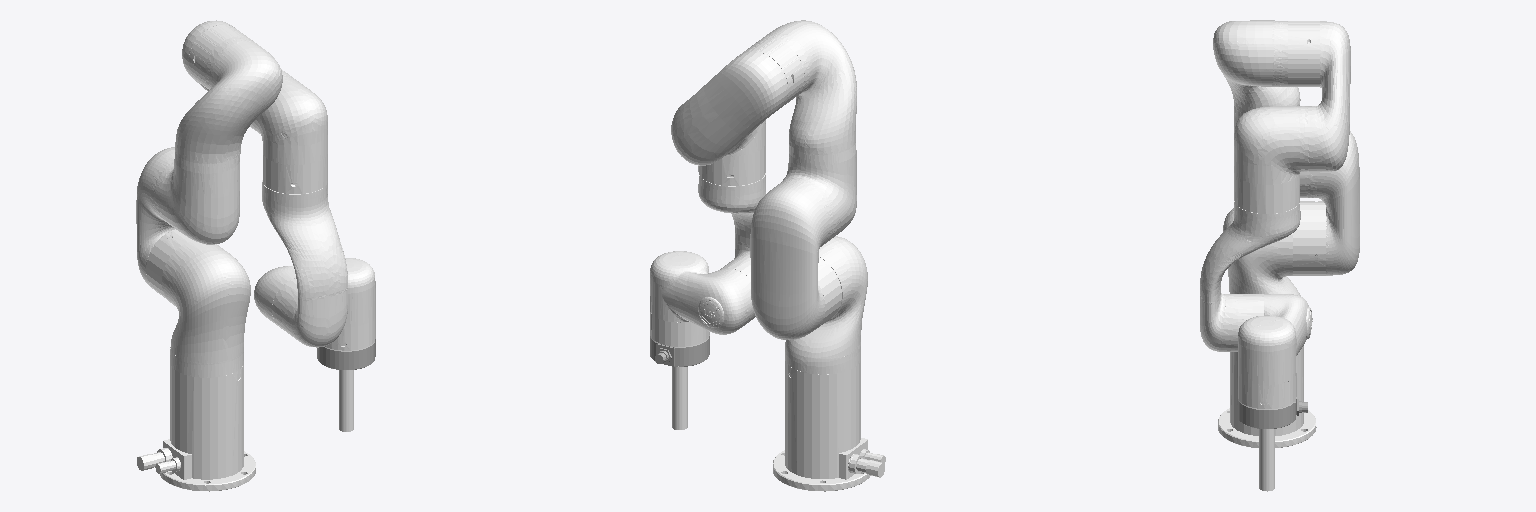
URDF robot description (xarm6_with_gripper):
<?xml version="1.0" encoding="utf-8"?>
<!-- =================================================================================== -->
<!-- |    This document was autogenerated by xacro from xarm6_with_gripper.xacro       | -->
<!-- |    EDITING THIS FILE BY HAND IS NOT RECOMMENDED                                 | -->
<!-- =================================================================================== -->
<robot name="xarm6_with_gripper">
  <!-- <xacro:load_gripper attach_to="$(arg prefix)link6" /> -->
  <!--
  Author: [author] <[email redacted]>
  Contributers:
-->
  <gazebo>
    <plugin filename="libgazebo_ros_control.so" name="gazebo_ros_control">
      <robotNamespace>/xarm</robotNamespace>
      <!-- <controlPeriod>0.0001</controlPeriod> -->
      <robotSimType>gazebo_ros_control/DefaultRobotHWSim</robotSimType>
      <legacyModeNS>true</legacyModeNS>
      <!-- <preserveWorldVelocity>true</preserveWorldVelocity> -->
    </plugin>
  </gazebo>
  <link name="world"/>
  <joint name="world_joint" type="fixed">
    <parent link="world"/>
    <child link="link_base"/>
    <origin rpy="0 0 0" xyz="0 0 0"/>
  </joint>
  <material name="Black">
    <color rgba="0.0 0.0 0.0 1.0"/>
  </material>
  <material name="Red">
    <color rgba="0.8 0.0 0.0 1.0"/>
  </material>
  <material name="White">
    <color rgba="1.0 1.0 1.0 1.0"/>
  </material>
  <material name="Silver">
    <color rgba="0.753 0.753 0.753 1.0"/>
  </material>
  <link name="link_base">
    <visual>
      <geometry>
        <mesh filename="xarm_description/meshes/xarm6/visual/base.obj"/>
      </geometry>
      <origin rpy="0 0 0" xyz="0 0 0"/>
      <material name="White"/>
    </visual>
    <collision>
      <geometry>
        <mesh filename="xarm_description/meshes/xarm6/collision/base_vhacd.obj"/>
      </geometry>
      <origin rpy="0 0 0" xyz="0 0 0"/>
    </collision>
    <inertial>
      <origin rpy="0 0 0" xyz="0.0 0.0 0.09103"/>
      <mass value="2.7"/>
      <inertia ixx="0.00494875" ixy="-3.5E-06" ixz="1.25E-05" iyy="0.00494174" iyz="1.67E-06" izz="0.002219"/>
    </inertial>
  </link>
  <link name="link1">
    <visual>
      <geometry>
        <mesh filename="xarm_description/meshes/xarm6/visual/link1.obj"/>
      </geometry>
      <origin rpy="0 0 0" xyz="0 0 0"/>
      <material name="White"/>
    </visual>
    <collision>
      <geometry>
        <mesh filename="xarm_description/meshes/xarm6/collision/link1_vhacd.obj"/>
      </geometry>
      <origin rpy="0 0 0" xyz="0 0 0"/>
    </collision>
    <inertial>
      <origin rpy="0 0 0" xyz="-0.002 0.02692 -0.01332"/>
      <mass value="2.16"/>
      <inertia ixx="0.00539427" ixy="1.095E-05" ixz="1.635E-06" iyy="0.0048979" iyz="0.000793" izz="0.00311573"/>
    </inertial>
  </link>
  <joint name="joint1" type="revolute">
    <parent link="link_base"/>
    <child link="link1"/>
    <origin rpy="0 0 0" xyz="0 0 0.267"/>
    <axis xyz="0 0 1"/>
    <limit effort="50.0" lower="-6.28318530718" upper="6.28318530718" velocity="3.14"/>
    <dynamics damping="1.0" friction="1.0"/>
  </joint>
  <link name="link2">
    <visual>
      <geometry>
        <mesh filename="xarm_description/meshes/xarm6/visual/link2.obj"/>
      </geometry>
      <origin rpy="0 0 0" xyz="0 0 0"/>
      <material name="White"/>
      	
    </visual>
    <collision>
      <geometry>
        <mesh filename="xarm_description/meshes/xarm6/collision/link2_vhacd2.obj"/>
      </geometry>
      <origin rpy="0 0 0" xyz="0 0 0"/>
    </collision>
    <inertial>
      <origin rpy="0 0 0" xyz="0.03531 -0.21398 0.03386"/>
      <mass value="1.71"/>
      <inertia ixx="0.0248674" ixy="-0.00430651" ixz="-0.00067797" iyy="0.00485548" iyz="0.00457245" izz="0.02387827"/>
    </inertial>
  </link>
  <joint name="joint2" type="revolute">
    <parent link="link1"/>
    <child link="link2"/>
    <origin rpy="-1.5708 0 0" xyz="0 0 0"/>
    <axis xyz="0 0 1"/>
    <limit effort="50.0" lower="-2.059" upper="2.0944" velocity="3.14"/>
    <dynamics damping="1.0" friction="1.0"/>
  </joint>
  <link name="link3">
    <visual>
      <geometry>
        <mesh filename="xarm_description/meshes/xarm6/visual/link3.obj"/>
      </geometry>
      <origin rpy="0 0 0" xyz="0 0 0"/>
      <material name="White"/>
    </visual>
    <collision>
      <geometry>
        <mesh filename="xarm_description/meshes/xarm6/collision/link3_vhacd.obj"/>
      </geometry>
      <origin rpy="0 0 0" xyz="0 0 0"/>
    </collision>
    <inertial>
      <origin rpy="0 0 0" xyz="0.06781 0.10749 0.01457"/>
      <mass value="1.384"/>
      <inertia ixx="0.0053694" ixy="0.0014185" ixz="-0.00092094" iyy="0.0032423" iyz="-0.00169178" izz="0.00501731"/>
    </inertial>
  </link>
  <joint name="joint3" type="revolute">
    <parent link="link2"/>
    <child link="link3"/>
    <origin rpy="0 0 0" xyz="0.0535 -0.2845 0"/>
    <axis xyz="0 0 1"/>
    <limit effort="32.0" lower="-3.927" upper="0.19198" velocity="3.14"/>
    <dynamics damping="1.0" friction="1.0"/>
  </joint>
  <link name="link4">
    <visual>
      <geometry>
        <mesh filename="xarm_description/meshes/xarm6/visual/link4.obj"/>
      </geometry>
      <origin rpy="0 0 0" xyz="0 0 0"/>
      <material name="White"/>
    </visual>
    <collision>
      <geometry>
        <mesh filename="xarm_description/meshes/xarm6/collision/link4_vhacd.obj"/>
      </geometry>
      <origin rpy="0 0 0" xyz="0 0 0"/>
    </collision>
    <inertial>
      <origin rpy="0 0 0" xyz="-0.00021 0.02578 -0.02538"/>
      <mass value="1.115"/>
      <inertia ixx="0.00439263" ixy="5.028E-05" ixz="1.374E-05" iyy="0.0040077" iyz="0.00045338" izz="0.00110321"/>
    </inertial>
  </link>
  <joint name="joint4" type="revolute">
    <parent link="link3"/>
    <child link="link4"/>
    <origin rpy="-1.5708 0 0" xyz="0.0775 0.3425 0"/>
    <axis xyz="0 0 1"/>
    <limit effort="32.0" lower="-6.28318530718" upper="6.28318530718" velocity="3.14"/>
    <dynamics damping="1.0" friction="1.0"/>
  </joint>
  <link name="link5">
    <visual>
      <geometry>
        <mesh filename="xarm_description/meshes/xarm6/visual/link5.obj"/>
      </geometry>
      <origin rpy="0 0 0" xyz="0 0 0"/>
      <material name="White"/>
    </visual>
    <collision>
      <geometry>
        <mesh filename="xarm_description/meshes/xarm6/collision/link5_vhacd.obj"/>
      </geometry>
      <origin rpy="0 0 0" xyz="0 0 0"/>
    </collision>
    <inertial>
      <origin rpy="0 0 0" xyz="0.05428 0.01781 0.00543"/>
      <mass value="1.275"/>
      <inertia ixx="0.001202758" ixy="0.000492428" ixz="-0.00039147" iyy="0.0022876" iyz="-1.235E-04" izz="0.0026866"/>
    </inertial>
  </link>
  <joint name="joint5" type="revolute">
    <parent link="link4"/>
    <child link="link5"/>
    <origin rpy="1.5708 0 0" xyz="0 0 0"/>
    <axis xyz="0 0 1"/>
    <limit effort="32.0" lower="-1.69297" upper="3.14159265359" velocity="3.14"/>
    <dynamics damping="1.0" friction="1.0"/>
  </joint>
  <link name="link6">
    <visual>
      <geometry>
        <mesh filename="xarm_description/meshes/xarm6/visual/link6.obj"/>
      </geometry>
      <origin rpy="0 0 0" xyz="0 0 0"/>
      <material name="Silver"/>
    </visual>
    <collision>
      <geometry>
        <mesh filename="xarm_description/meshes/xarm6/visual/link6.obj"/>
      </geometry>
      <origin rpy="0 0 0" xyz="0 0 0"/>
    </collision>
    <inertial>
      <origin rpy="0 0 0" xyz="0 0.00064 -0.00952"/>
      <mass value="0.1096"/>
      <inertia ixx="4.5293E-05" ixy="0" ixz="0" iyy="4.8111E-05" iyz="0" izz="7.9715E-05"/>
    </inertial>
  </link>
  <joint name="joint6" type="revolute">
    <parent link="link5"/>
    <child link="link6"/>
    <origin rpy="-1.5708 0 0" xyz="0.076 0.097 0"/>
    <axis xyz="0 0 1"/>
    <limit effort="20.0" lower="-6.28318530718" upper="6.28318530718" velocity="3.14"/>
    <dynamics damping="1.0" friction="1.0"/>
  </joint>
  <transmission name="tran1">
    <type>transmission_interface/SimpleTransmission</type>
    <joint name="joint1">
      <hardwareInterface>hardware_interface/PositionJointInterface</hardwareInterface>
    </joint>
    <actuator name="motor1">
      <hardwareInterface>hardware_interface/PositionJointInterface</hardwareInterface>
      <mechanicalReduction>100</mechanicalReduction>
    </actuator>
  </transmission>
  <transmission name="tran2">
    <type>transmission_interface/SimpleTransmission</type>
    <joint name="joint2">
      <hardwareInterface>hardware_interface/PositionJointInterface</hardwareInterface>
    </joint>
    <actuator name="motor2">
      <hardwareInterface>hardware_interface/PositionJointInterface</hardwareInterface>
      <mechanicalReduction>reduction</mechanicalReduction>
    </actuator>
  </transmission>
  <transmission name="tran3">
    <type>transmission_interface/SimpleTransmission</type>
    <joint name="joint3">
      <hardwareInterface>hardware_interface/PositionJointInterface</hardwareInterface>
    </joint>
    <actuator name="motor3">
      <hardwareInterface>hardware_interface/PositionJointInterface</hardwareInterface>
      <mechanicalReduction>reduction</mechanicalReduction>
    </actuator>
  </transmission>
  <transmission name="tran4">
    <type>transmission_interface/SimpleTransmission</type>
    <joint name="joint4">
      <hardwareInterface>hardware_interface/PositionJointInterface</hardwareInterface>
    </joint>
    <actuator name="motor3">
      <hardwareInterface>hardware_interface/PositionJointInterface</hardwareInterface>
      <mechanicalReduction>reduction</mechanicalReduction>
    </actuator>
  </transmission>
  <transmission name="tran5">
    <type>transmission_interface/SimpleTransmission</type>
    <joint name="joint5">
      <hardwareInterface>hardware_interface/PositionJointInterface</hardwareInterface>
    </joint>
    <actuator name="motor5">
      <hardwareInterface>hardware_interface/PositionJointInterface</hardwareInterface>
      <mechanicalReduction>reduction</mechanicalReduction>
    </actuator>
  </transmission>
  <transmission name="tran6">
    <type>transmission_interface/SimpleTransmission</type>
    <joint name="joint6">
      <hardwareInterface>hardware_interface/PositionJointInterface</hardwareInterface>
    </joint>
    <actuator name="motor6">
      <hardwareInterface>hardware_interface/PositionJointInterface</hardwareInterface>
      <mechanicalReduction>reduction</mechanicalReduction>
    </actuator>
  </transmission>
  <gazebo reference="link_base">
    <selfCollide>true</selfCollide>
  </gazebo>
  <gazebo reference="link1">
    <selfCollide>true</selfCollide>
  </gazebo>
  <gazebo reference="link2">
    <selfCollide>true</selfCollide>
  </gazebo>
  <gazebo reference="link3">
    <selfCollide>true</selfCollide>
  </gazebo>
  <gazebo reference="link4">
    <selfCollide>true</selfCollide>
  </gazebo>
  <gazebo reference="link5">
    <selfCollide>true</selfCollide>
  </gazebo>
  <gazebo reference="link6">
    <selfCollide>true</selfCollide>
  </gazebo>
  <joint name="gripper_fix" type="fixed">
    <parent link="link6"/>
    <child link="xarm_gripper_base_link"/>
    <origin rpy="0 0 0" xyz="0 0 0"/>
  </joint>
  <link name="xarm_gripper_base_link">
    <inertial>
      <origin rpy="0 0 0" xyz="-0.00065489 -0.0018497 0.048028"/>
      <mass value="0.54156"/>
      <inertia ixx="0.00047106" ixy="3.9292E-07" ixz="2.6537E-06" iyy="0.00033072" iyz="-1.0975E-05" izz="0.00025642"/>
    </inertial>
    <visual>
      <origin rpy="0 0 0" xyz="0 0 0"/>
      <geometry>
        <mesh filename="xarm_gripper/meshes/cylinder.obj"/>
      </geometry>
      <material name="White">
        <color rgba="1.0 1.0 1.0 1.0"/>
      </material>
    </visual>
    <collision>
      <origin rpy="0 0 0" xyz="0 0 0"/>
      <geometry>
        <mesh filename="xarm_gripper/meshes/cylinder.obj"/>
      </geometry>
    </collision>
  </link>
  <transmission name="drive_joint_trans">
    <type>transmission_interface/SimpleTransmission</type>
    <joint name="drive_joint">
      <hardwareInterface>hardware_interface/PositionJointInterface</hardwareInterface>
    </joint>
    <actuator name="drive_joint_motor">
      <hardwareInterface>hardware_interface/PositionJointInterface</hardwareInterface>
      <mechanicalReduction>1</mechanicalReduction>
    </actuator>
  </transmission>
  <gazebo reference="xarm_gripper_base_link">
    <selfCollide>true</selfCollide>
  </gazebo>
</robot>

--- Render facts (derived) ---
The picture shows the robot from 3 angles, left to right: view 1: azimuth 30°, elevation 25°; view 2: azimuth 150°, elevation 25°; view 3: azimuth 270°, elevation 25°; orthographic projection.
Model xarm6_with_gripper with 9 links and 8 joints (6 revolute, 2 fixed), rooted at world, posed all joints at 0.
Visible links, largest first — view 1: link2, link1, link_base, link4, link3, link5, link6, xarm_gripper_base_link; view 2: link2, link3, link_base, link5, link1, link4, link6, xarm_gripper_base_link; view 3: link2, link3, link5, link4, link1, link_base, link6, xarm_gripper_base_link.
Boxes of the visible links, x1,y1,x2,y2 form: link2: (136, 25, 282, 288); link1: (146, 229, 250, 377); link_base: (137, 364, 255, 491); link4: (262, 180, 347, 347); link3: (182, 20, 327, 193); link5: (254, 258, 375, 350); link6: (317, 339, 375, 369); xarm_gripper_base_link: (339, 370, 353, 431); link2: (743, 20, 856, 339); link3: (671, 51, 787, 185); link_base: (773, 361, 885, 491); link5: (650, 251, 754, 346); link1: (785, 236, 867, 374); link4: (698, 173, 765, 316); link6: (650, 335, 709, 366); xarm_gripper_base_link: (672, 367, 687, 429); link2: (1213, 20, 1359, 275); link3: (1234, 21, 1350, 213); link5: (1238, 294, 1312, 408); link4: (1200, 201, 1300, 351); link1: (1223, 201, 1325, 295); link_base: (1218, 346, 1316, 447); link6: (1238, 399, 1307, 428); xarm_gripper_base_link: (1259, 429, 1274, 491).
Size in the robot's own frame: 0.3368 by 0.2052 by 0.5944 metres.
8 mesh visuals loaded from 8 distinct referenced files (8 OBJ).